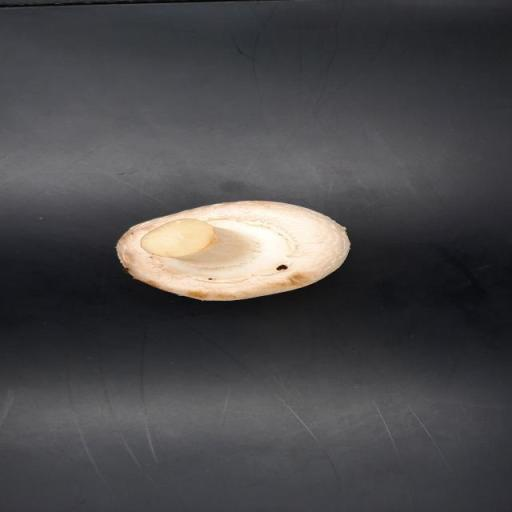mushroom: (111, 188, 357, 317)
